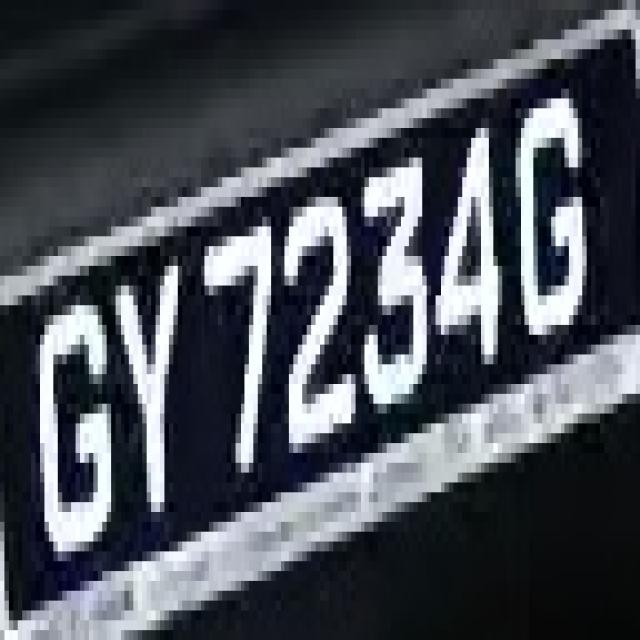2: (267, 167, 369, 443)
3: (351, 138, 436, 443)
4: (431, 118, 507, 404)
7: (200, 187, 276, 522)
G: (31, 256, 120, 591), (507, 99, 591, 374)
Y: (102, 236, 200, 552)
